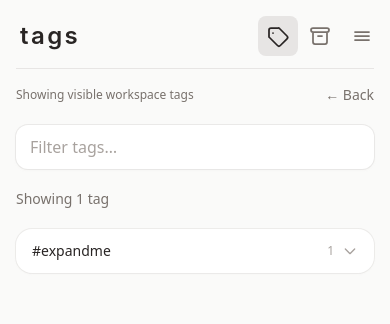
it: TagsPage — filter and expand › expands a tag row to show note previews
Click the text "#expandme" at (71, 251), box [32,241,111,261]
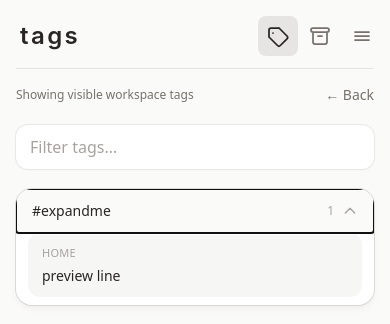
Now the text "preview line" is shown, box [42,266,120,284]
